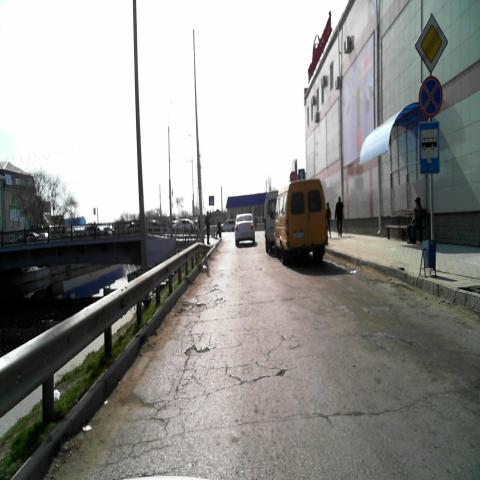2_2: (414, 11, 448, 73)
